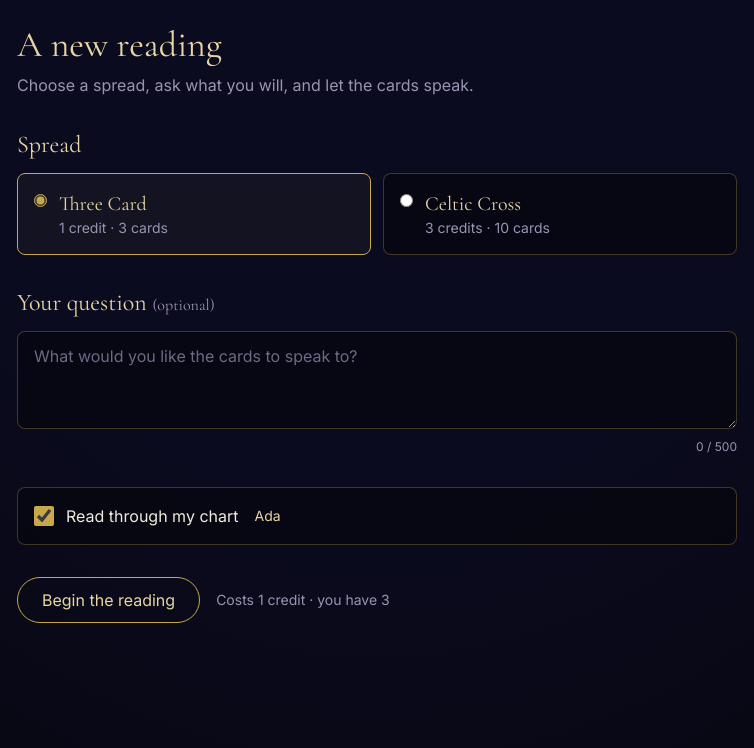
Test case: lists spreads with live costs and starts a chart-informed reading
Expected: the radio button labelled "Three Card 1 credit · 3 cards" is checked, [34,194,47,207]
Expected: the text "1 credit · 3 cards" is shown, [59,218,168,238]
Click the radio button labelled "Celtic Cross 3 credits · 10 cards": (406, 200) [400,194,413,207]
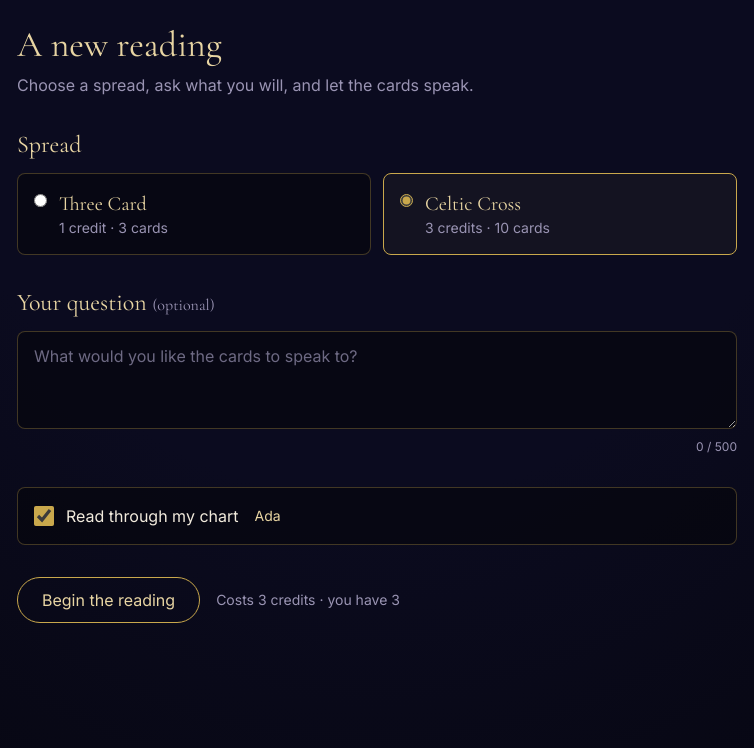
Expected: the switch labelled "Read through my chart" is checked, [34,506,54,526]
Expected: the text "Costs 3 credits · you have 3" is shown, [216,590,400,610]
In the text box labelled "Your question (optional)": (377, 380) [17,331,737,429], type "Should I take the job?"
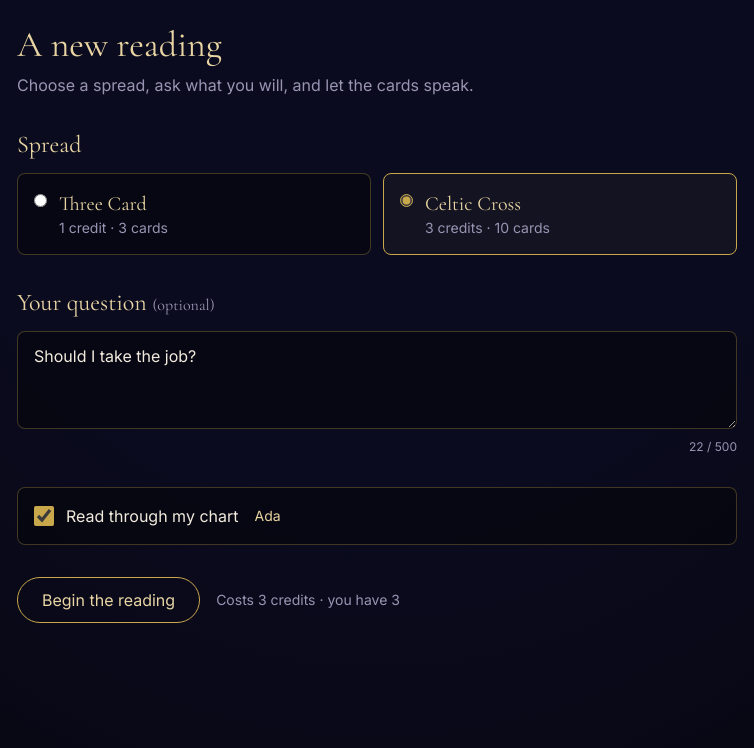
Click the button "Begin the reading": (109, 600) [17,577,200,623]
Wait 5400 ms
(page scrolled)
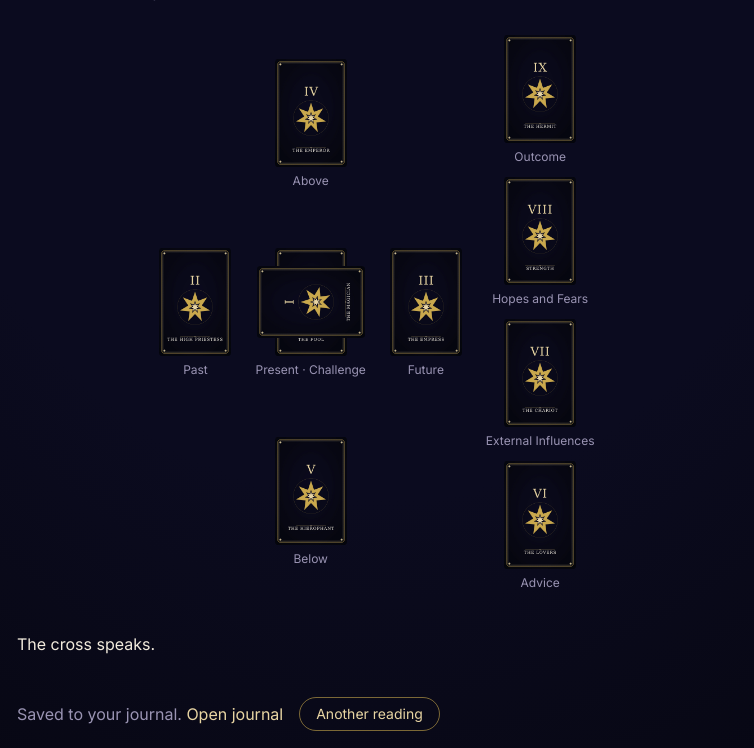
Expected: the element "Past" is shown, [160,248,232,378]
Expected: the text "Past" is shown, [183,362,208,378]
Expected: the element "Future" is shown, [390,248,462,378]
